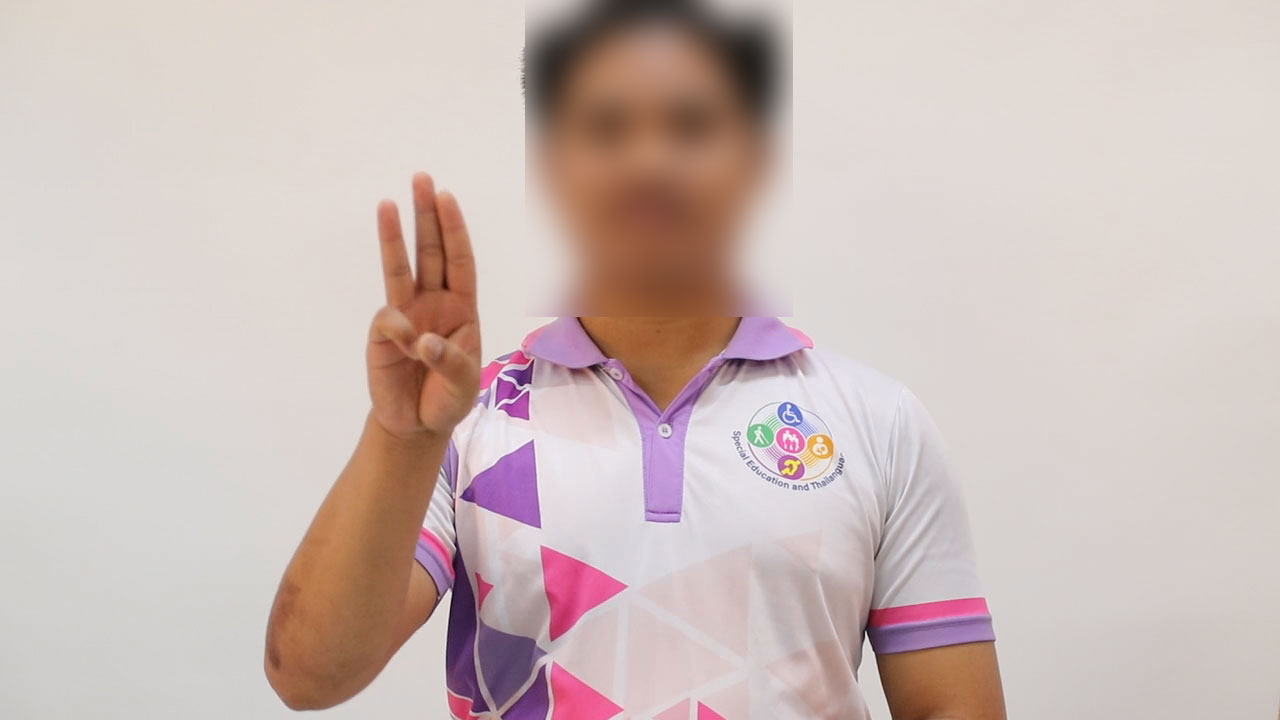wor: (351, 163, 492, 453)
